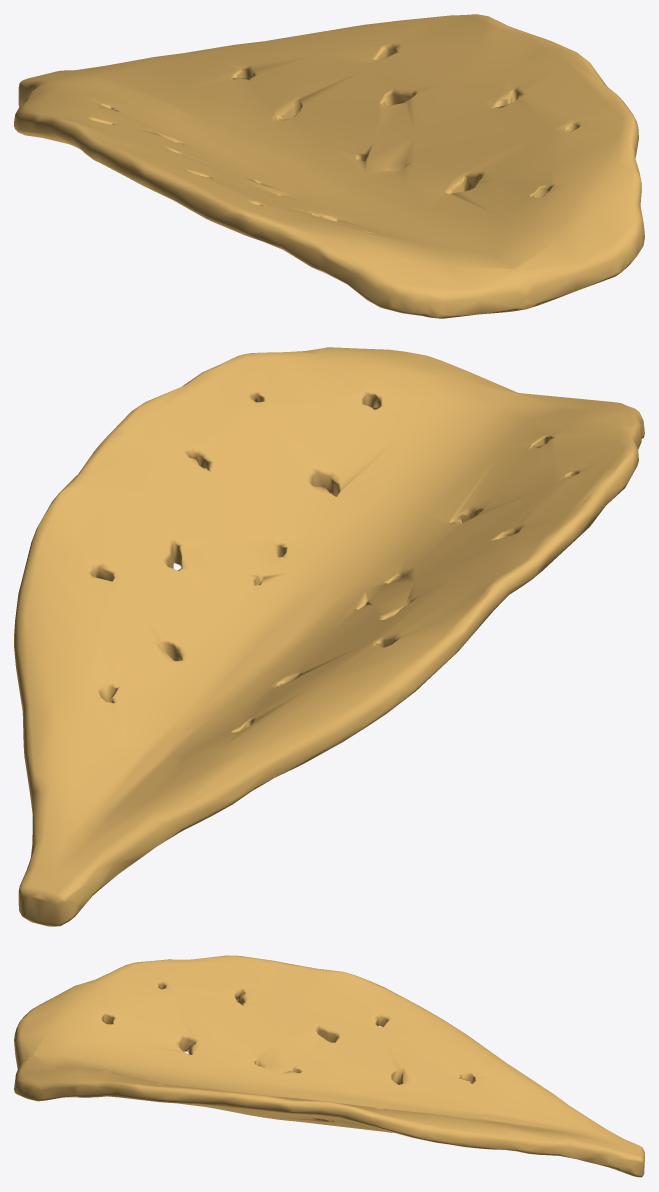
3 views of the same model, one above another, from view 1: azimuth 30°, elevation 25°; view 2: azimuth 150°, elevation 25°; view 3: azimuth 270°, elevation 25° (orthographic). The views are drawn at different scales.
Visible parts, largest first — view 1: 会厌; view 2: 会厌; view 3: 会厌.
Boxes of the visible parts, <box> form: 会厌: <box>14,14,644,318</box>; 会厌: <box>14,347,644,926</box>; 会厌: <box>14,955,644,1177</box>.
Size of the model in its own units: 0.0231 by 0.0113 by 0.0435.
